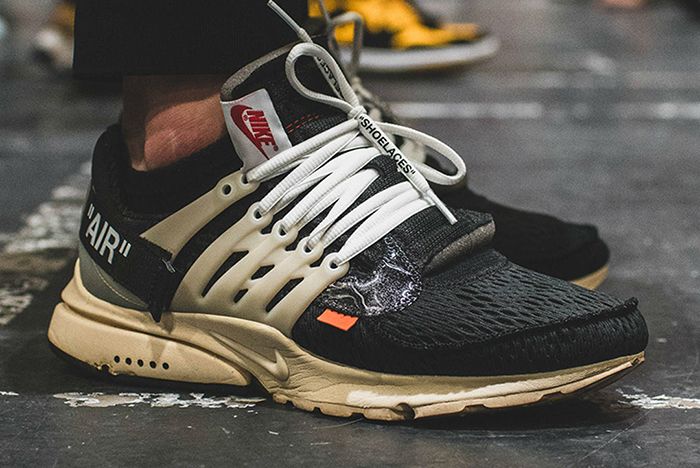Nike x OFF--WHITE Air Presto OG: (40, 54, 650, 429)
